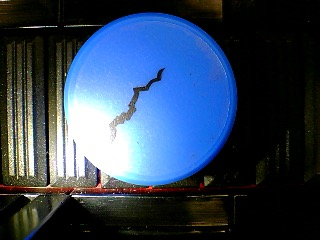CRACK: (63, 11, 239, 187)
